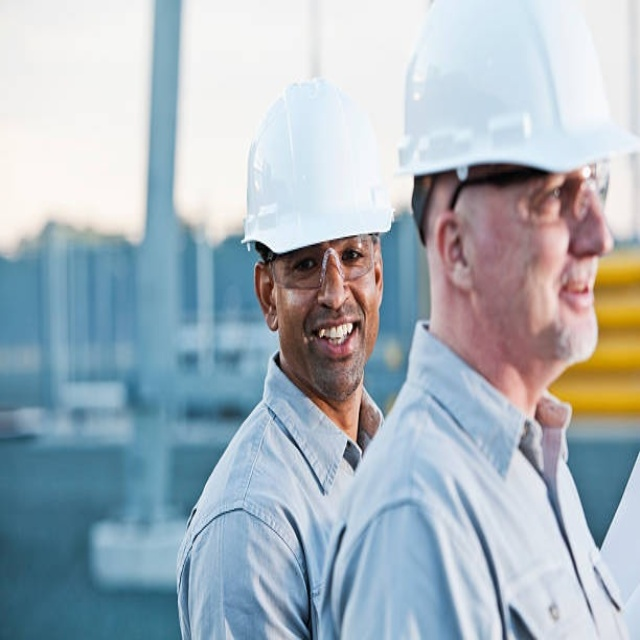Gafas: (447, 158, 613, 232), (267, 231, 379, 290)
Sin_mascara: (542, 254, 604, 353), (303, 307, 362, 380)
